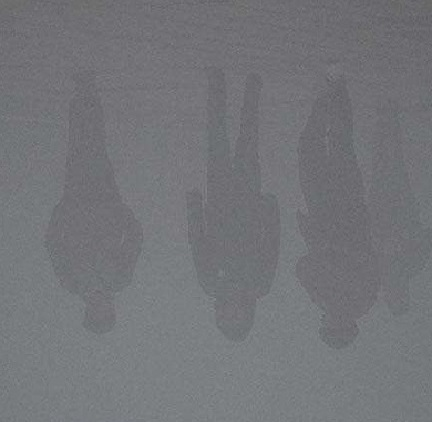person: (41, 85, 144, 339), (186, 70, 281, 341), (297, 69, 377, 350), (368, 102, 432, 319)
